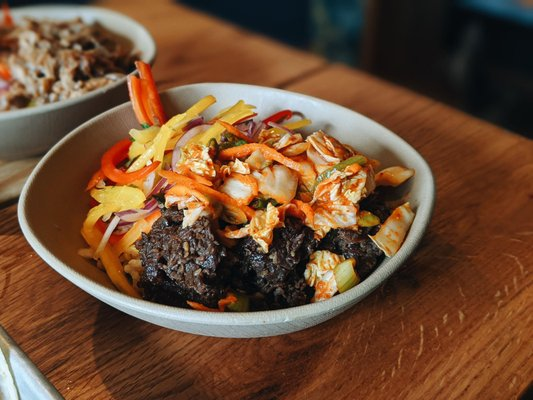sushi: (18, 84, 434, 341), (0, 2, 158, 162)
